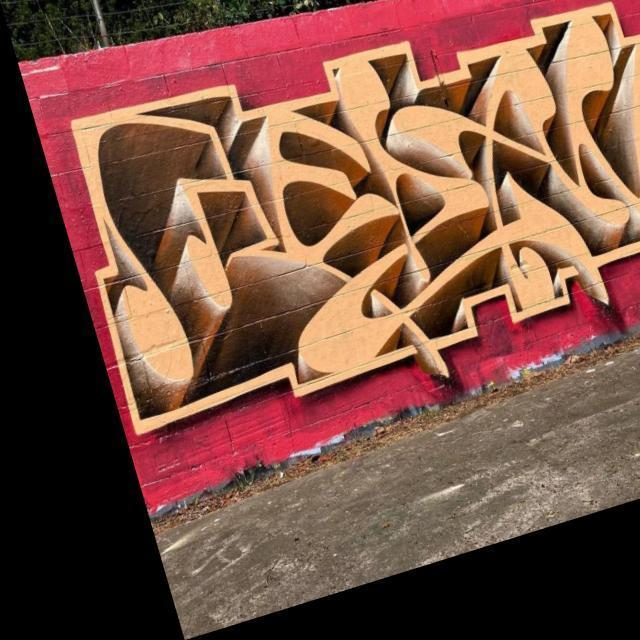-: (24, 0, 640, 466)
